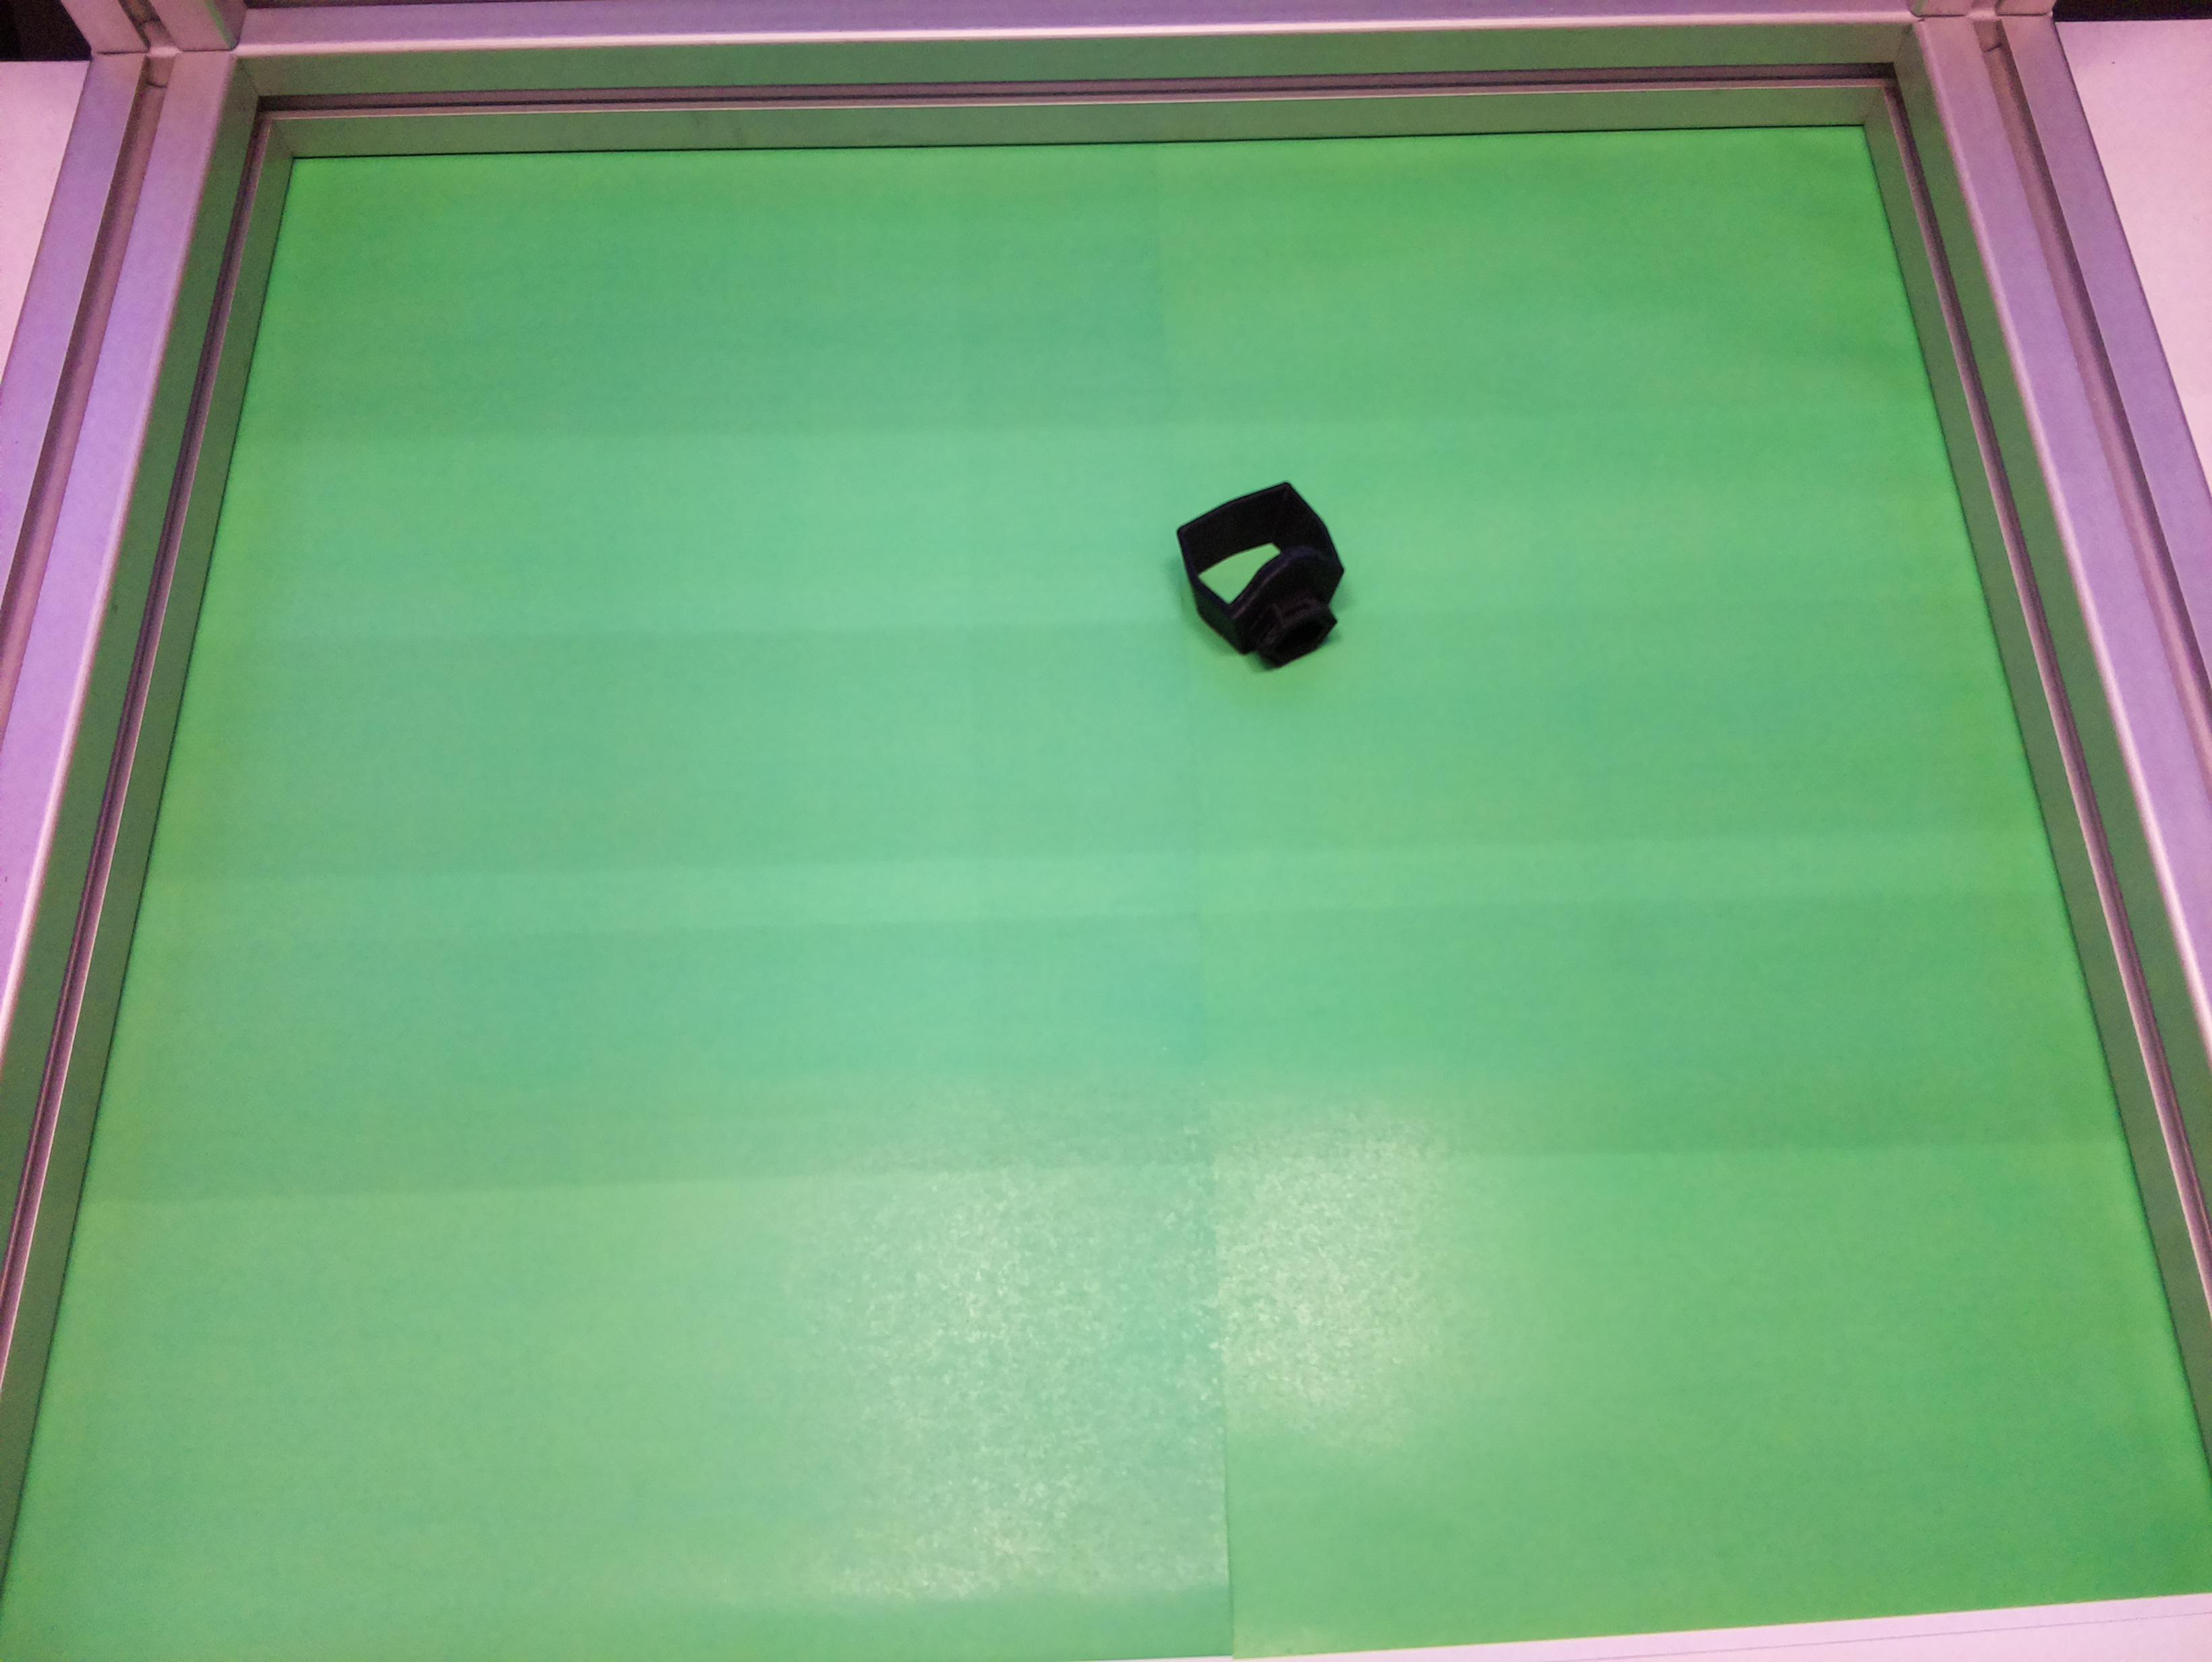scissor_holder: (1164, 471, 1369, 686)
